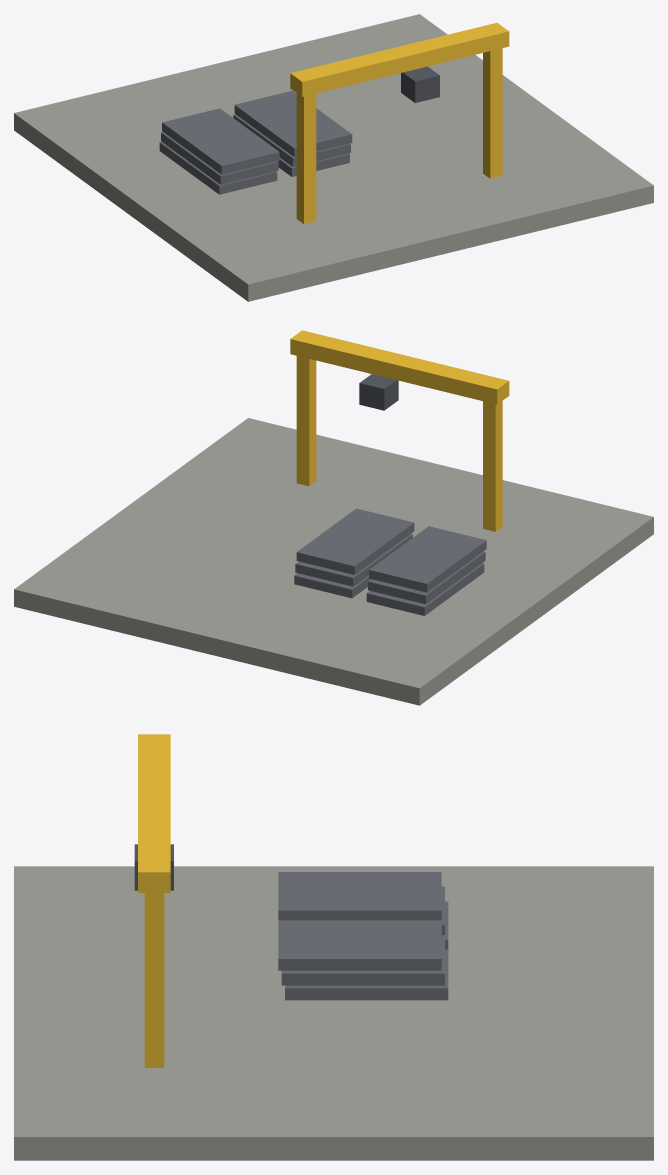
Rendered from metal_special_1.glb.
3 renders of one model, top to bottom at view 1: azimuth 30°, elevation 25°; view 2: azimuth 150°, elevation 25°; view 3: azimuth 270°, elevation 25°, orthographic. The views are drawn at different scales.
Visible parts, largest first — view 1: metal_special_1; view 2: metal_special_1; view 3: metal_special_1.
Part boxes in pixels (<box>): metal_special_1: <box>14,14,653,301</box>; metal_special_1: <box>14,330,653,705</box>; metal_special_1: <box>14,734,653,1160</box>.
Bounding box in the file's own units: 1.96 × 0.75 × 1.96.
